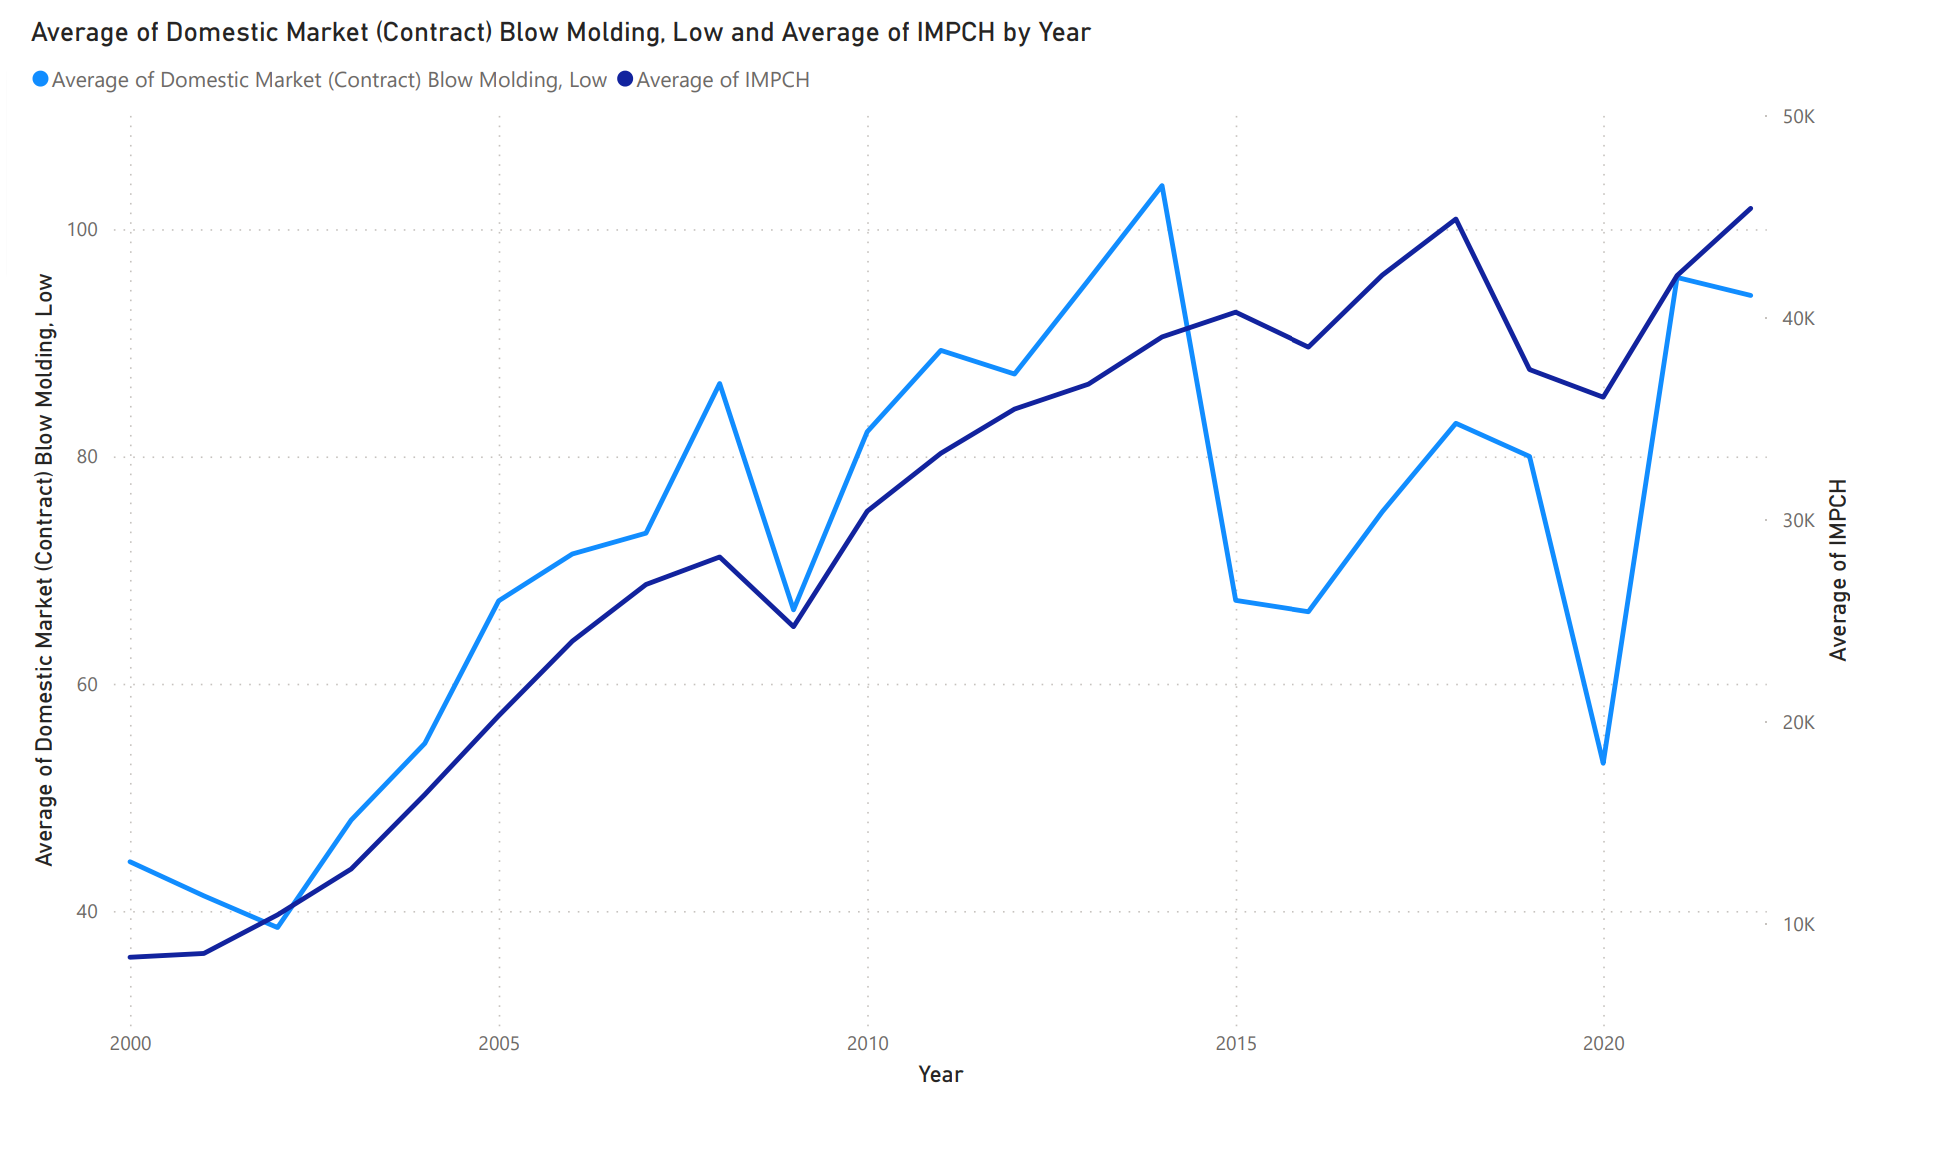

What the dashboard file says about the page in this screenshot:
{"tool":"powerbi","page":{"name":"Page 6","canvas":[1280,720],"ordinal":7},"visuals":[{"type":"lineChart","fields":{"Category":["Blown_price.Date.Variation.Date Hierarchy.Year","Blown_price.Date.Variation.Date Hierarchy.Quarter","Blown_price.Date.Variation.Date Hierarchy.Month","Blown_price.Date.Variation.Date Hierarchy.Day"],"Y":["Sum(Blown_price.WPU0915021622)"],"Y2":["Sum(Blown_price.Domestic Market (Contract) Blow Molding, Low)"]},"box":[9.7,0,1083.6,638.5],"z":0}]}

Visuals, with their boxes on the page's 1280x720 design canvas (x1, y1, x2, y2). These are canvas units, not pixel positions in the 1944x1169 screenshot, which may show the page scaled, cropped or inside an application window:
lineChart - Blown_price.Date.Variation.Date Hierarchy.Year x Blown_price.Date.Variation.Date Hierarchy.Quarter: {"x1": 10, "y1": 0, "x2": 1093, "y2": 638}
